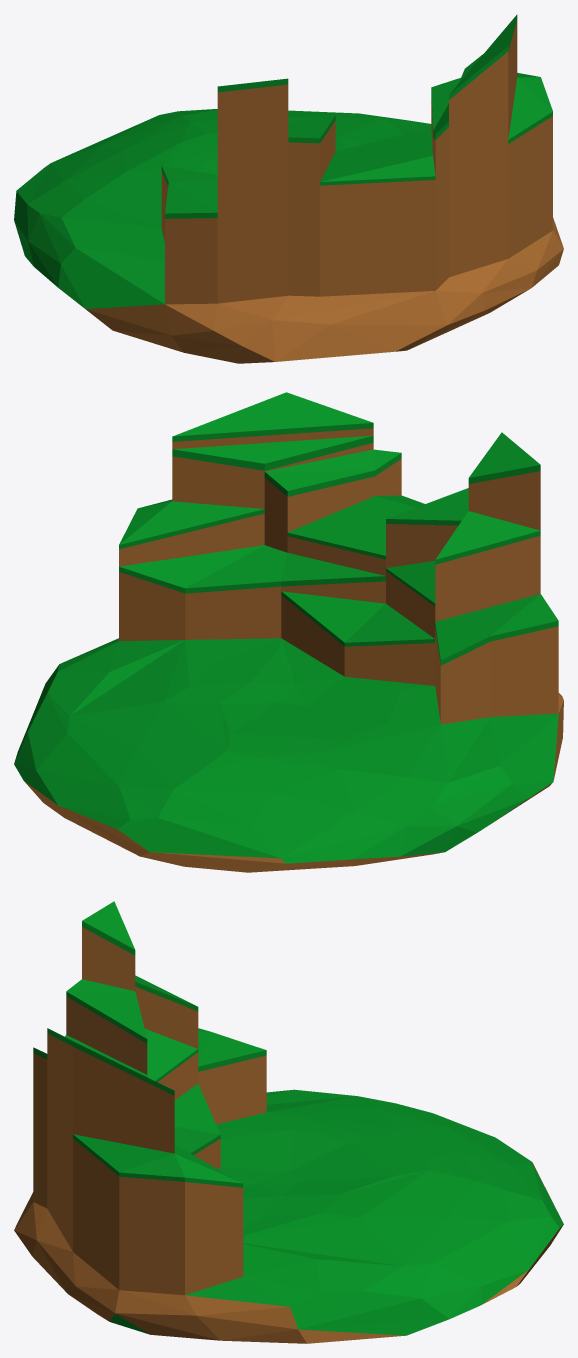
Rendered from bigplatformv2.3.fbx.
3 views of the same model, one above another, from view 1: azimuth 30°, elevation 25°; view 2: azimuth 150°, elevation 25°; view 3: azimuth 270°, elevation 25° (orthographic). The views are drawn at different scales.
Visible parts, largest first — view 1: BigPlatform3; view 2: BigPlatform3; view 3: BigPlatform3.
Boxes of the visible parts, x1,y1,x2,y2 form: BigPlatform3: (14, 14, 563, 363); BigPlatform3: (14, 392, 563, 872); BigPlatform3: (14, 901, 563, 1343).
Bounding box in the file's own units: 1045 × 653 × 1078.
